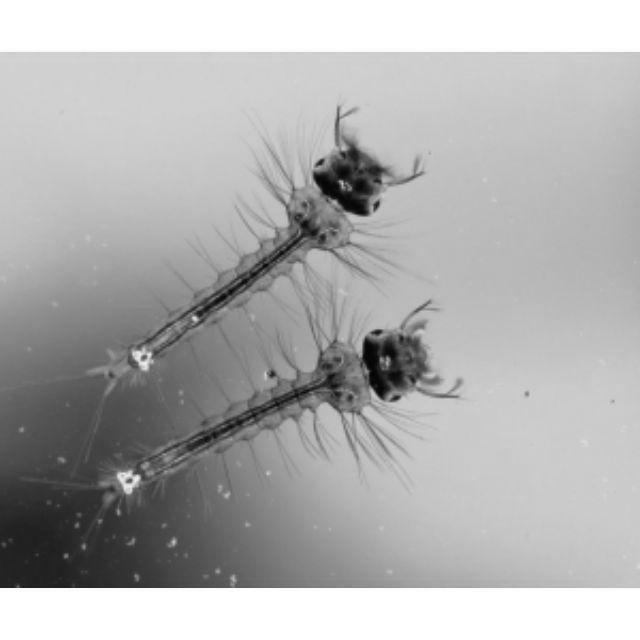larvas: (100, 138, 403, 355), (113, 325, 437, 505)
